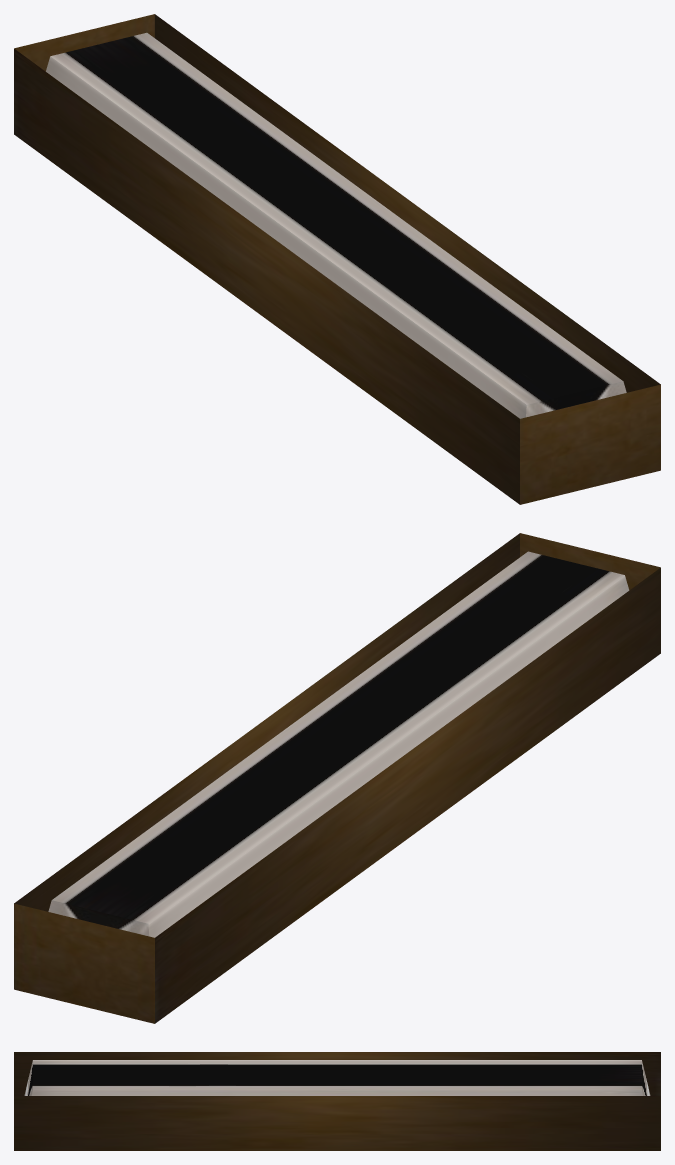
3 renders of one model, top to bottom at view 1: azimuth 30°, elevation 25°; view 2: azimuth 150°, elevation 25°; view 3: azimuth 270°, elevation 25°, orthographic. The views are drawn at different scales.
Visible parts, largest first — view 1: CeilingLamp_0; view 2: CeilingLamp_0; view 3: CeilingLamp_0.
Part boxes in pixels (bbox=[...]): CeilingLamp_0: bbox=[14, 14, 660, 504]; CeilingLamp_0: bbox=[14, 533, 660, 1023]; CeilingLamp_0: bbox=[14, 1052, 660, 1150].
Bounding box in the file's own units: 0.2092 × 0.1222 × 1.3.
Materials: 1 (1 with a texture image).
